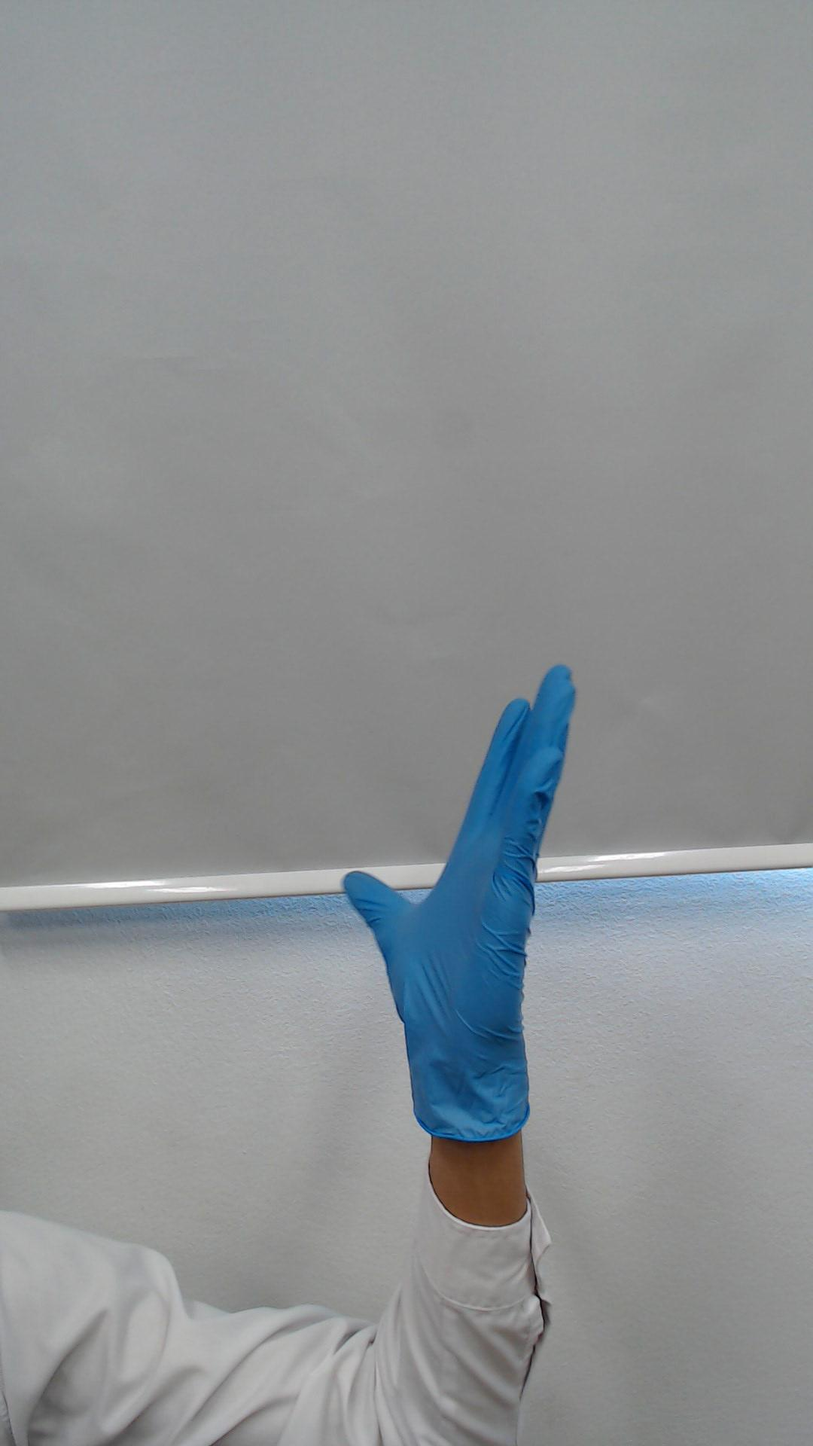gloves: (330, 641, 589, 1029)
